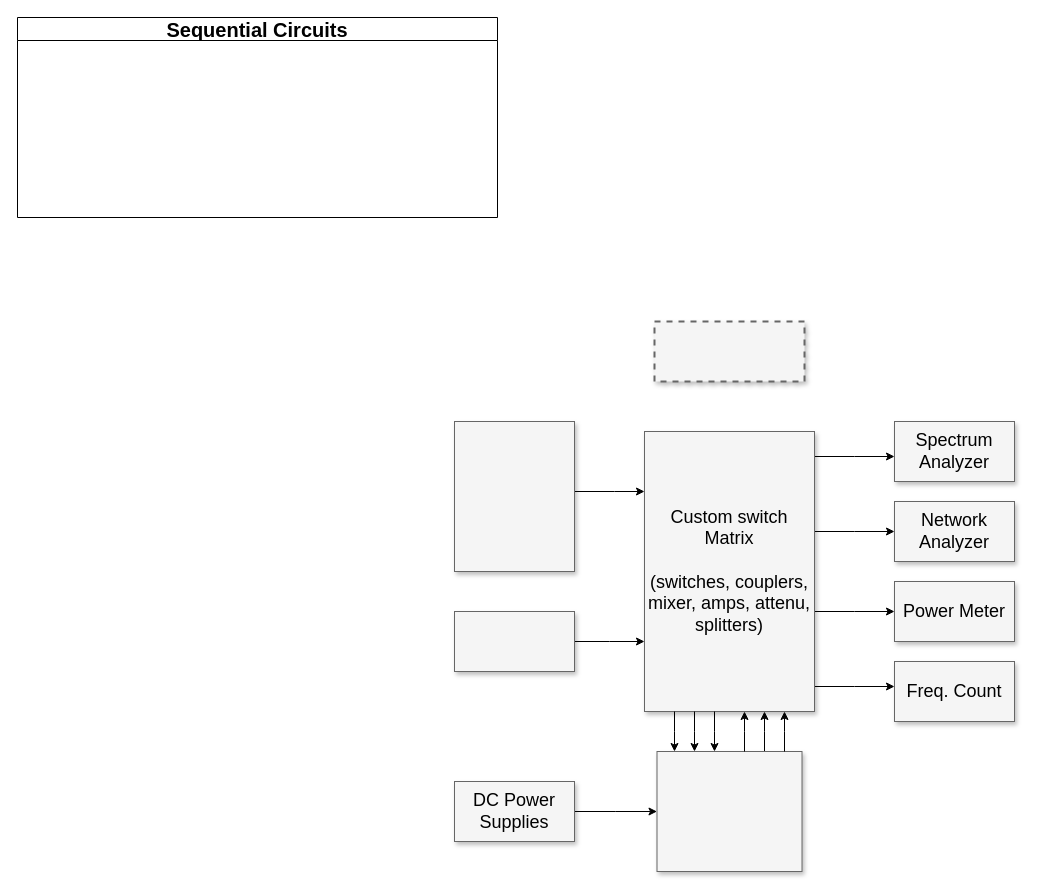
Image size: 1038x896. Some labels were removed from this diagram. The shapes that lost their labels are listed below. From the top down, each one's centre as x and y in pixels, then its label:
point 730,352: Software Control
point 515,497: Vector Signal Generator
point 515,642: ARB / Mod Source
point 730,812: DUT
